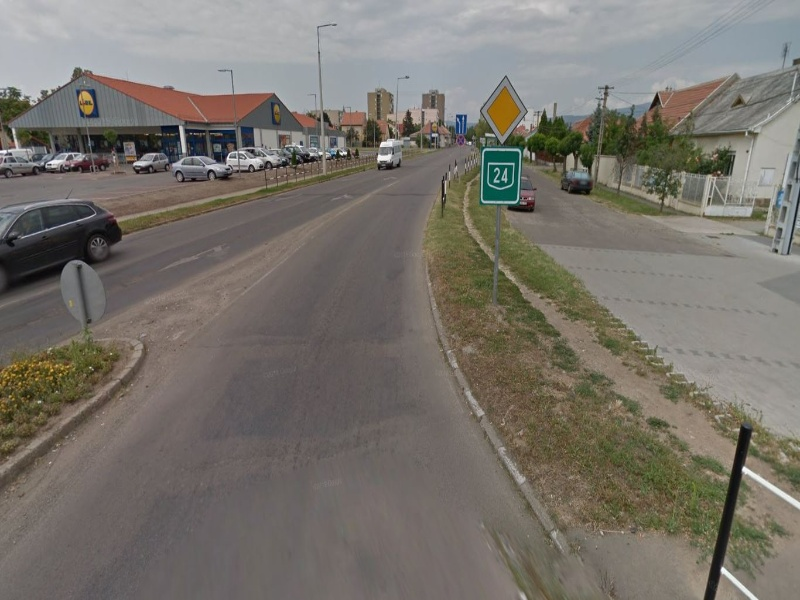fout: (479, 75, 531, 144)
